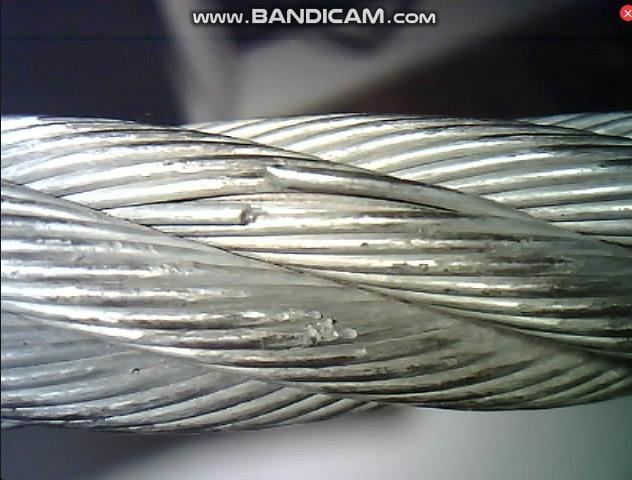break: (217, 149, 291, 229)
